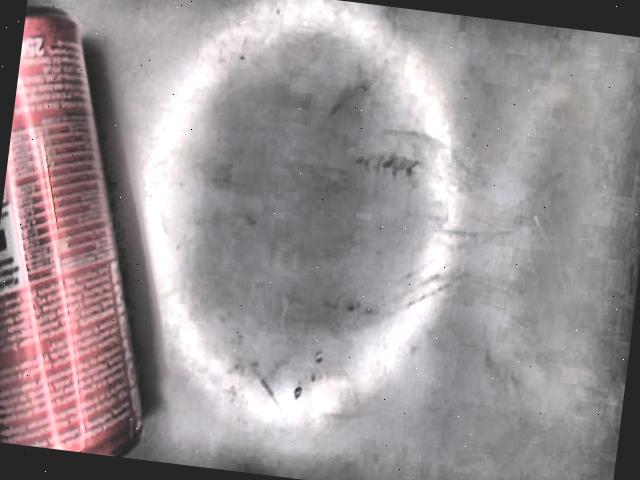Bottles: (0, 4, 143, 459)
